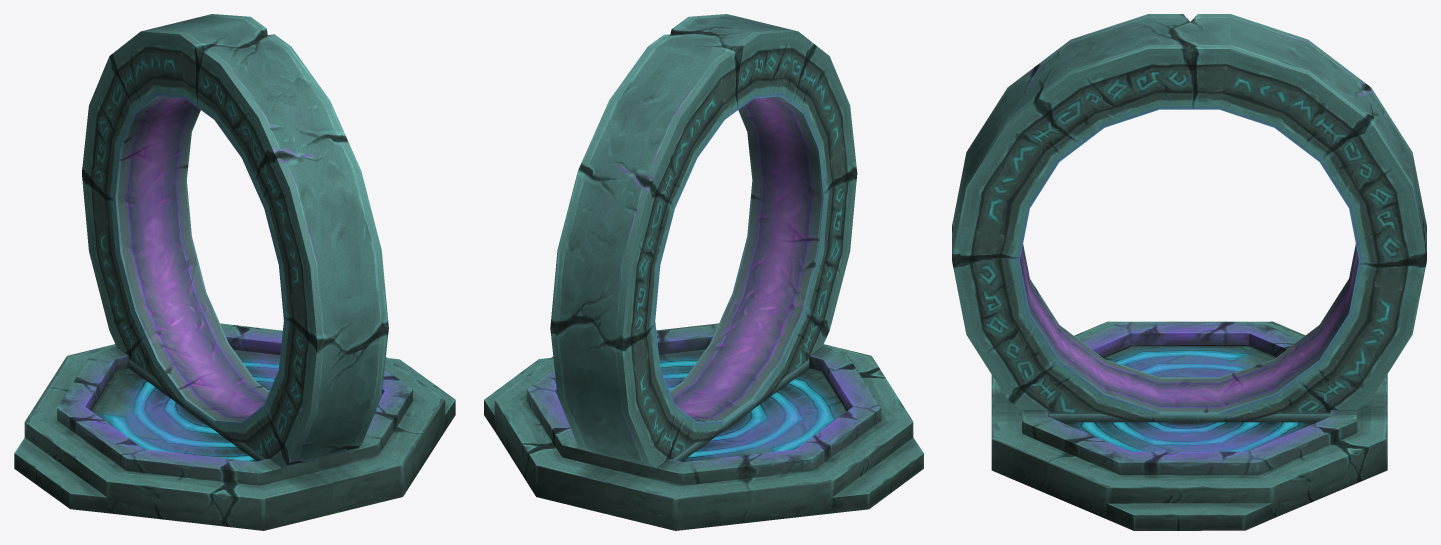
Rendered from waygate.fbx.
The picture shows the model from 3 angles, left to right: view 1: azimuth 30°, elevation 25°; view 2: azimuth 150°, elevation 25°; view 3: azimuth 270°, elevation 25°; orthographic projection.
Visible parts, largest first — view 1: waygate-0; view 2: waygate-0; view 3: waygate-0.
Part boxes in pixels (x1,y1,x2,y2): waygate-0: (14,14,455,530); waygate-0: (484,14,923,530); waygate-0: (952,14,1426,530).
Bounding box in the file's own units: 7.38 × 7.34 × 7.8.
